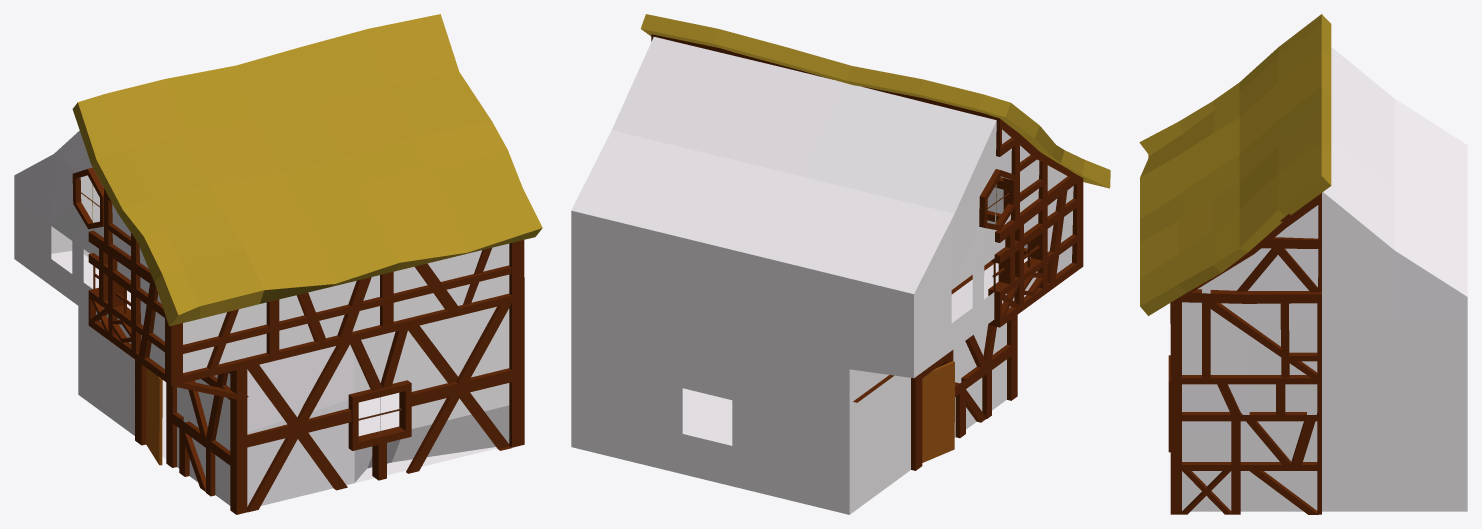
File: maison_colombage.glb
3 views of the same model, side by side, from view 1: azimuth 30°, elevation 25°; view 2: azimuth 150°, elevation 25°; view 3: azimuth 270°, elevation 25° (orthographic). The views are drawn at different scales.
Visible parts, largest first — view 1: Toit, Base, Poutre1, sol, Poutre porte, porte; view 2: Base, Poutre1, Toit, porte, sol, Poutre porte; view 3: Base, Toit, Poutre1.
Boxes of the visible parts, x1,y1,x2,y2 form: Toit: (72,14,542,326); Base: (14,130,509,506); Poutre1: (88,188,524,514); sol: (162,380,496,482); Poutre porte: (135,360,230,467); porte: (146,368,162,465); Base: (571,37,1073,514); Poutre1: (651,34,1083,438); Toit: (640,14,1110,188); porte: (922,361,954,462); sol: (682,388,732,445); Poutre porte: (853,350,953,470); Base: (1182,47,1467,511); Toit: (1139,14,1331,315); Poutre1: (1168,193,1321,514).
Size of what is drawn, in the model's own units: 2.72 by 2.58 by 2.25.
